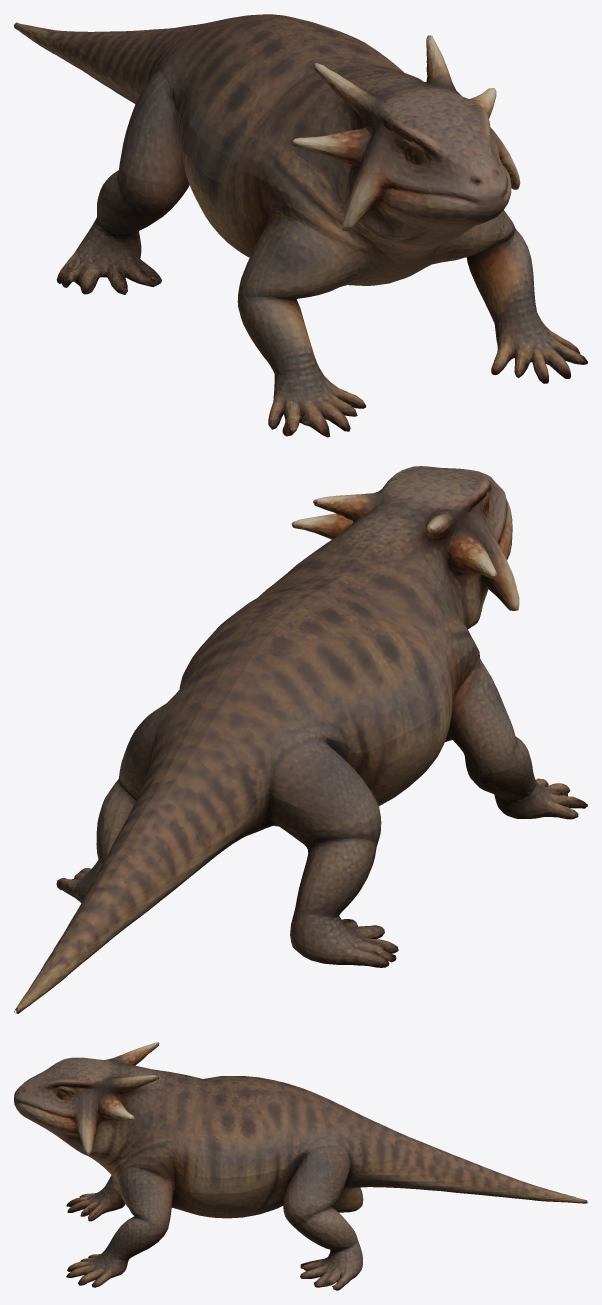
3 renders of one model, top to bottom at view 1: azimuth 30°, elevation 25°; view 2: azimuth 150°, elevation 25°; view 3: azimuth 270°, elevation 25°, orthographic. The views are drawn at different scales.
Parts seen in each view (by area): view 1: world; view 2: world; view 3: world.
Boxes of the visible parts, box(x1,y1,x2,y2) form: world: box(14, 14, 587, 437); world: box(14, 466, 587, 1013); world: box(14, 1042, 587, 1290).
Bounding box in the file's own units: 0.4039 × 0.355 × 1.
1 material, 1 textured.
